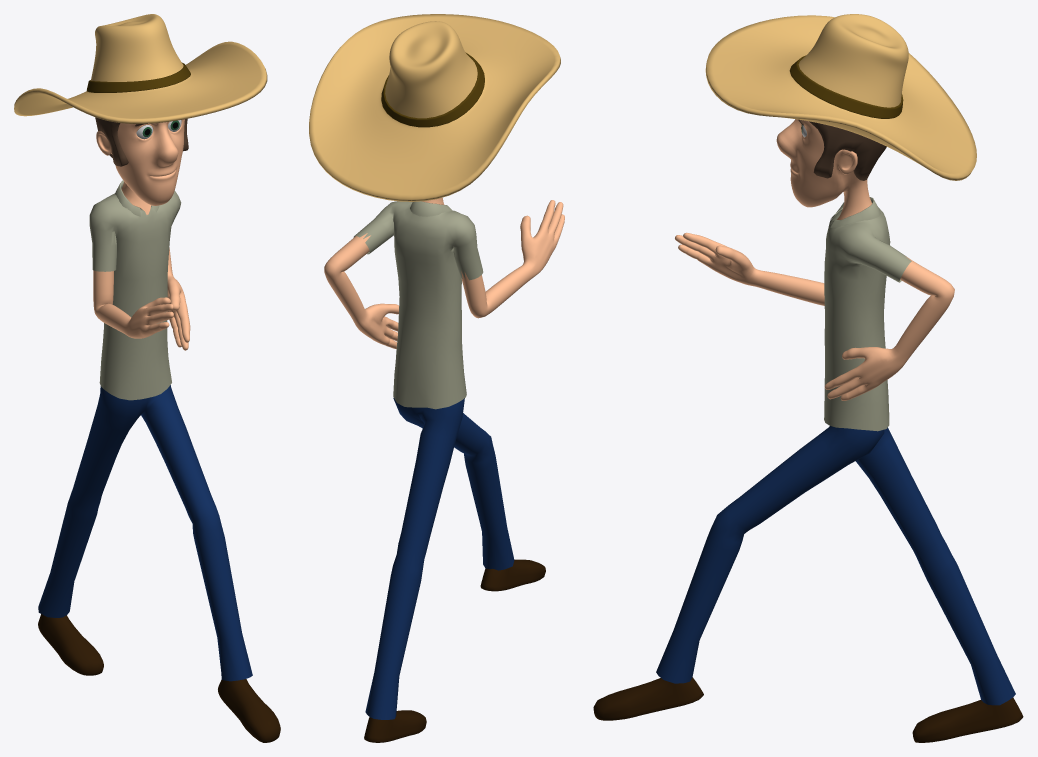
The model's file is GuyRun6.obj.
3 renders of one model, left to right at view 1: azimuth 30°, elevation 25°; view 2: azimuth 150°, elevation 25°; view 3: azimuth 270°, elevation 25°, orthographic. The views are drawn at different scales.
Bounding box in the file's own units: 2.18 × 7.17 × 3.85.
